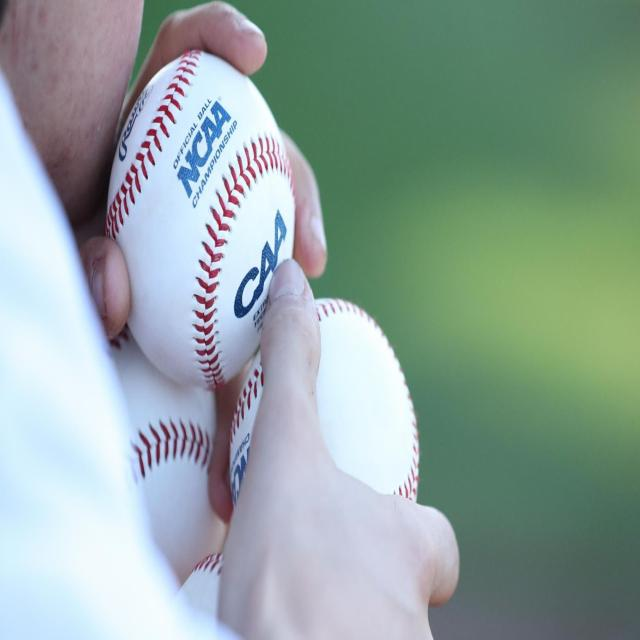baseball: (107, 52, 296, 388), (286, 298, 420, 498)
